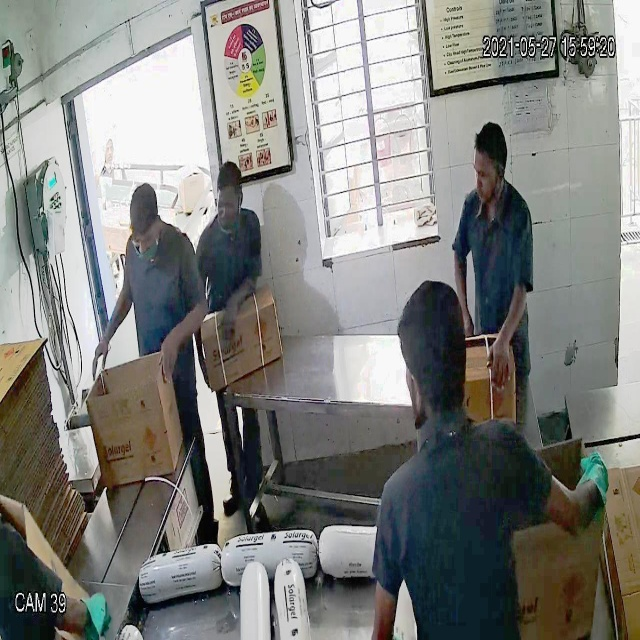Sin_gafas: (465, 159, 511, 187)
